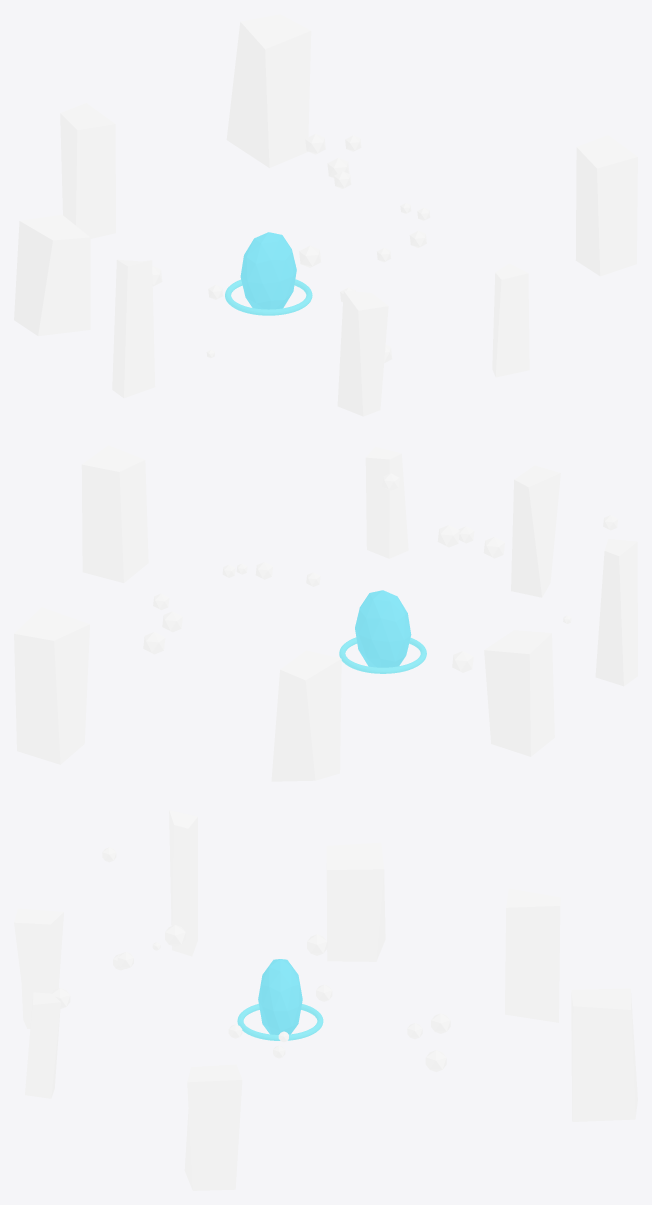
Rendered from mybyte_bg.glb.
The picture shows the model from 3 angles, top to bottom: view 1: azimuth 30°, elevation 25°; view 2: azimuth 150°, elevation 25°; view 3: azimuth 270°, elevation 25°; orthographic projection.
Parts seen in each view (by area): view 1: RockPillar_02, RockPillar_04, RockPillar_01, RockPillar_03, RockPillar_06, RockPillar_05, RockPillar_07, Aura_Outer, Aura_Ring; view 2: RockPillar_02, RockPillar_03, RockPillar_01, RockPillar_04, RockPillar_05, RockPillar_06, RockPillar_07, Aura_Outer, Aura_Ring; view 3: RockPillar_02, RockPillar_03, RockPillar_04, RockPillar_01, RockPillar_06, RockPillar_05, RockPillar_07, Aura_Outer, Aura_Ring.
Boxes of the visible parts, bbox=[...] form: RockPillar_02: bbox=[226, 14, 311, 167]; RockPillar_04: bbox=[14, 214, 90, 336]; RockPillar_01: bbox=[575, 135, 637, 276]; RockPillar_03: bbox=[60, 103, 115, 238]; RockPillar_06: bbox=[337, 290, 388, 416]; RockPillar_05: bbox=[112, 259, 155, 398]; RockPillar_07: bbox=[492, 263, 529, 377]; Aura_Outer: bbox=[240, 232, 296, 309]; Aura_Ring: bbox=[225, 279, 312, 315]; RockPillar_02: bbox=[14, 607, 89, 764]; RockPillar_03: bbox=[271, 650, 341, 781]; RockPillar_01: bbox=[81, 445, 148, 582]; RockPillar_04: bbox=[484, 630, 554, 756]; RockPillar_05: bbox=[595, 539, 637, 686]; RockPillar_06: bbox=[511, 465, 560, 597]; RockPillar_07: bbox=[365, 446, 408, 558]; Aura_Outer: bbox=[355, 590, 411, 667]; Aura_Ring: bbox=[339, 637, 426, 673]; RockPillar_02: bbox=[571, 988, 637, 1121]; RockPillar_03: bbox=[505, 888, 560, 1022]; RockPillar_04: bbox=[326, 842, 385, 961]; RockPillar_01: bbox=[184, 1064, 242, 1190]; RockPillar_06: bbox=[14, 908, 63, 1028]; RockPillar_05: bbox=[169, 810, 197, 956]; RockPillar_07: bbox=[25, 992, 60, 1098]; Aura_Outer: bbox=[258, 959, 302, 1034]; Aura_Ring: bbox=[237, 1004, 323, 1040].
Size of what is drawn, in the model's own units: 21.5 by 5.39 by 22.55.
